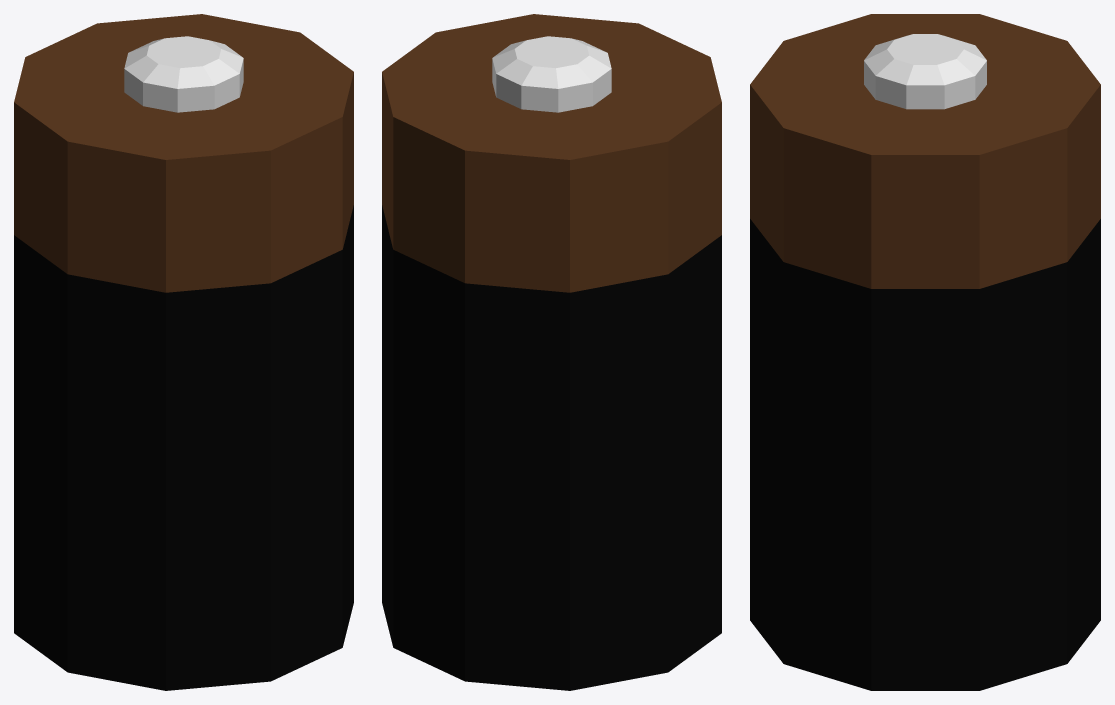
File: BatteryPickup.fbx
3 renders of one model, left to right at view 1: azimuth 30°, elevation 25°; view 2: azimuth 150°, elevation 25°; view 3: azimuth 270°, elevation 25°, orthographic.
Parts seen in each view (by area): view 1: Battery; view 2: Battery; view 3: Battery.
Boxes of the visible parts, bbox=[...] form: Battery: bbox=[14, 14, 353, 690]; Battery: bbox=[382, 14, 721, 690]; Battery: bbox=[750, 14, 1100, 690].
Bounding box in the file's own units: 23.09 × 43.61 × 24.28.
